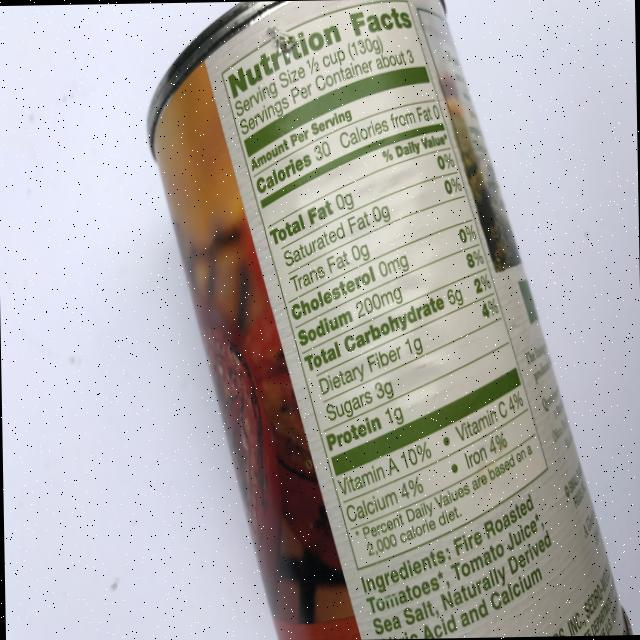metal: (143, 0, 632, 640)
